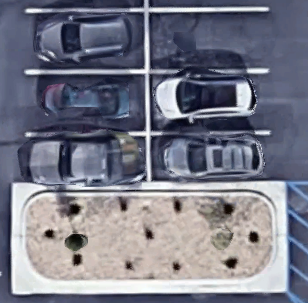Occupied: (26, 72, 147, 135), (25, 10, 147, 72), (147, 72, 270, 133), (148, 133, 270, 187), (26, 135, 149, 186)
Vacant: (147, 10, 269, 72)
